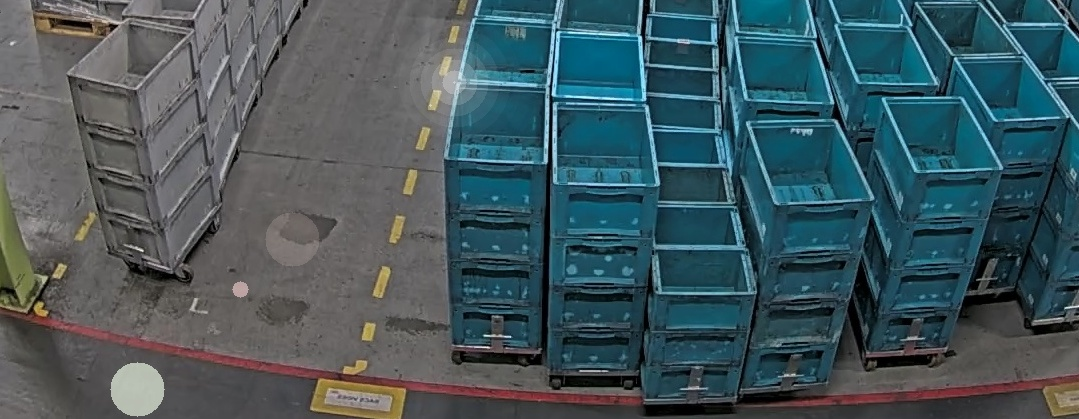4G: (67, 18, 223, 275)
B4: (851, 96, 1004, 357), (735, 120, 875, 393), (547, 104, 662, 375), (946, 56, 1072, 293), (443, 82, 551, 351)
B8: (642, 203, 757, 404)
